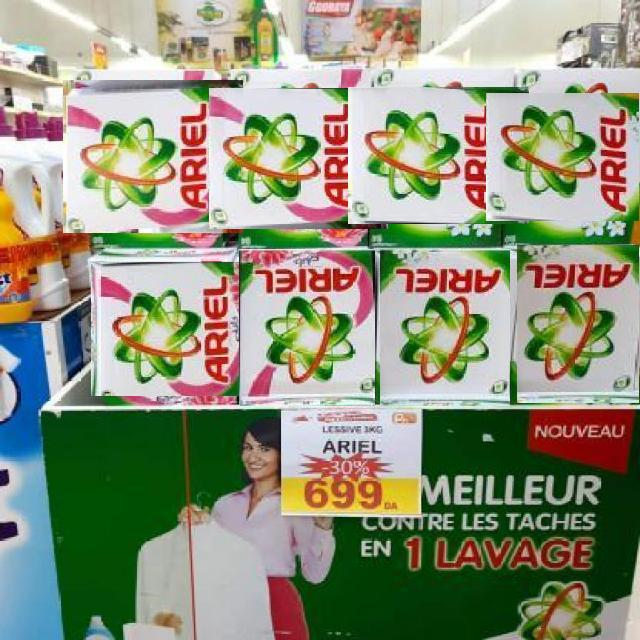Detergent: (63, 79, 243, 233), (209, 88, 388, 229), (349, 86, 529, 224), (238, 248, 375, 406), (91, 261, 246, 396), (379, 248, 510, 406), (486, 93, 640, 221), (516, 245, 639, 403)
